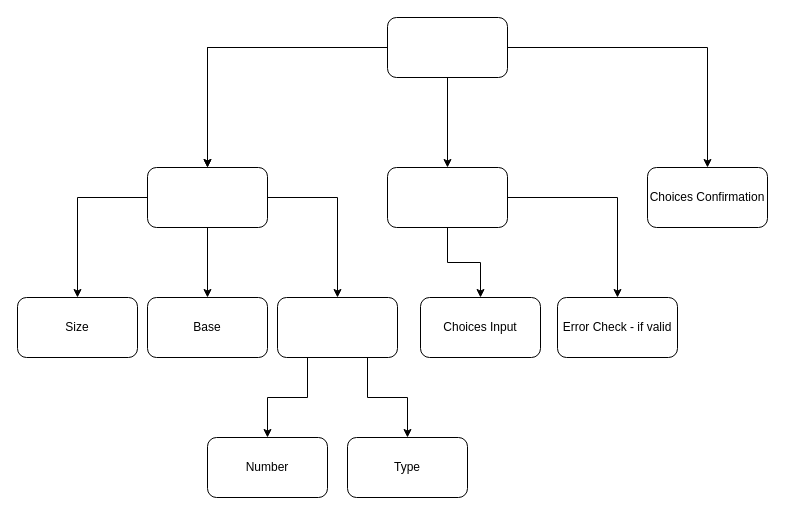
This 785x515 diagram has some shape labels left out. The centre of each missing label's shape, as x and y in pixels:
"Additional Toppings" goes at [337,327].
"Choices Output" goes at [207,197].
"Choices Selection" goes at [447,197].
"Task 1 - Design Your Pizza" goes at [447,47].
